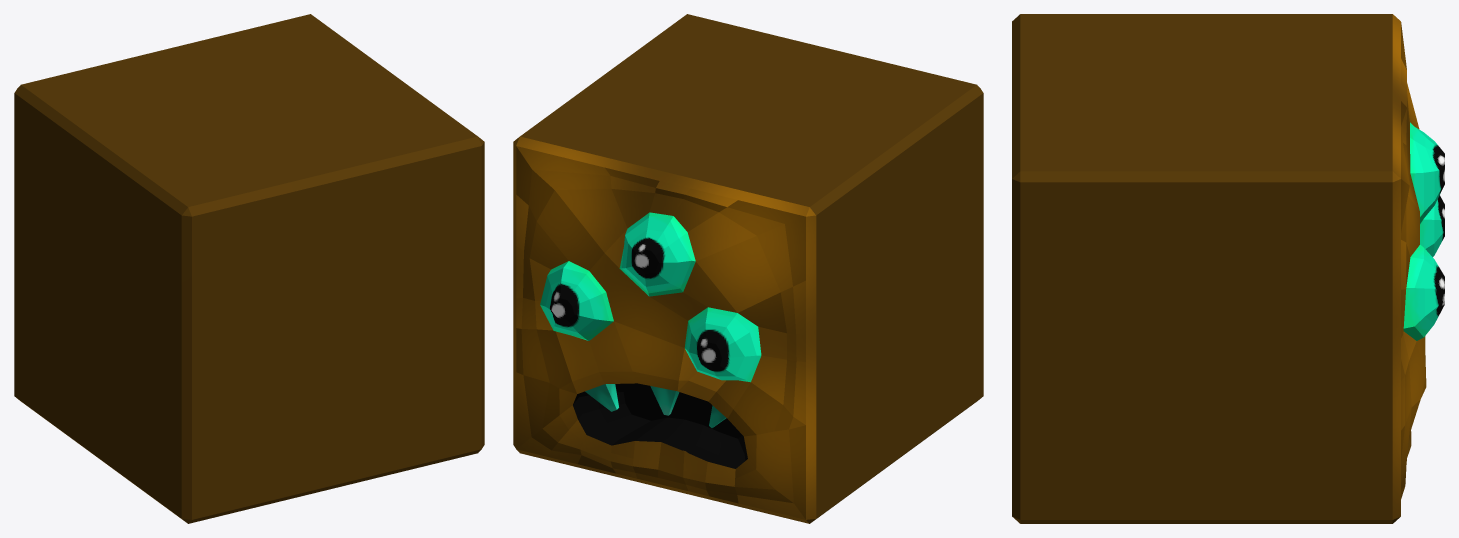
File: Block Assets ThreeEyes THREE.fbx
3 renders of one model, left to right at view 1: azimuth 30°, elevation 25°; view 2: azimuth 150°, elevation 25°; view 3: azimuth 270°, elevation 25°, orthographic. The views are drawn at different scales.
Parts seen in each view (by area): view 1: Block ThreeEyes THREE; view 2: Block ThreeEyes THREE; view 3: Block ThreeEyes THREE.
Part boxes in pixels (box(x1,y1,x2,y2)): Block ThreeEyes THREE: box(14, 14, 484, 523); Block ThreeEyes THREE: box(513, 14, 983, 523); Block ThreeEyes THREE: box(1012, 14, 1444, 523).
Bounding box in the file's own units: 1 × 1 × 1.11.
